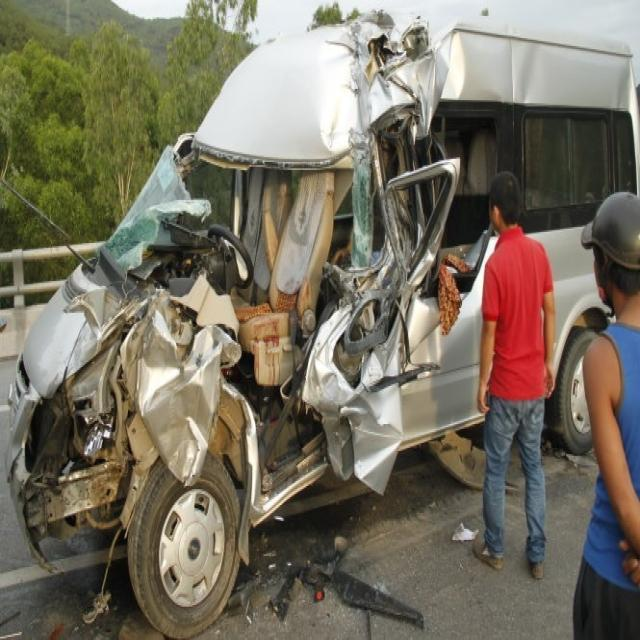accident: (0, 0, 524, 594)
